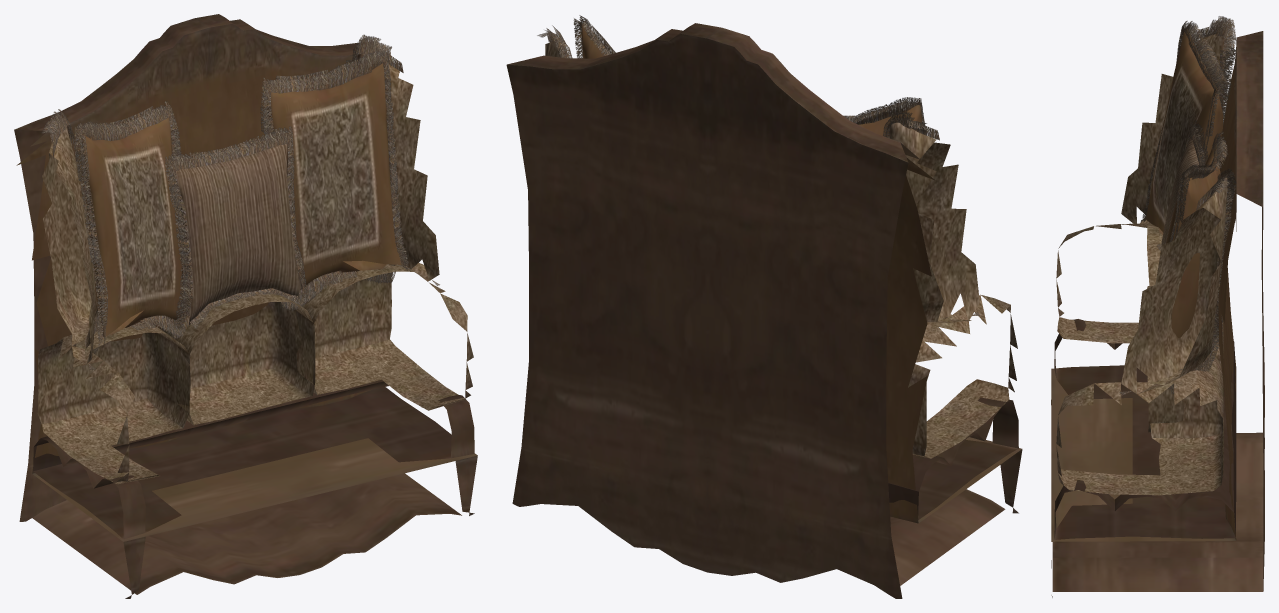
The model's file is sofa_back.glb.
3 renders of one model, left to right at view 1: azimuth 30°, elevation 25°; view 2: azimuth 150°, elevation 25°; view 3: azimuth 270°, elevation 25°, orthographic. The views are drawn at different scales.
Visible parts, largest first — view 1: sofa_03.002; view 2: sofa_03.002; view 3: sofa_03.002.
Part boxes in pixels (x1,y1,x2,y2): sofa_03.002: (14,14,477,598); sofa_03.002: (506,15,1022,598); sofa_03.002: (1051,16,1264,597).
Bounding box in the file's own units: 35.6 × 42.48 × 17.11.
Materials: 2 (2 with a texture image).
